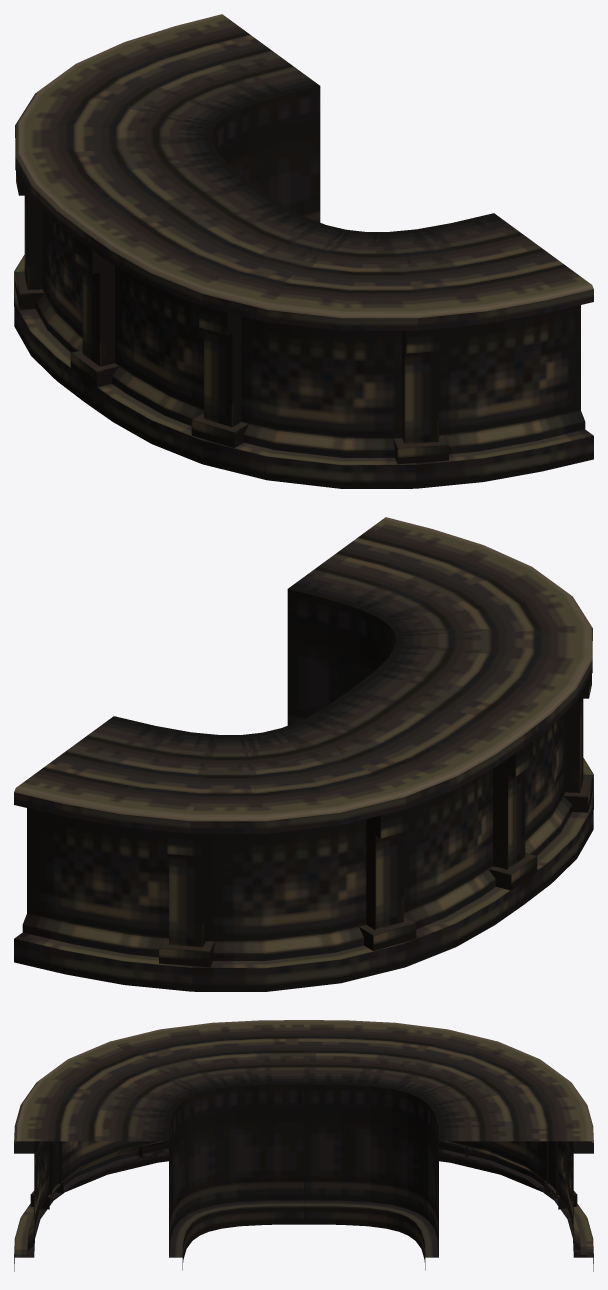
The model's file is EnvObjMD_BarCounter_A_Bottom_LS.FBX.
3 views of the same model, one above another, from view 1: azimuth 30°, elevation 25°; view 2: azimuth 150°, elevation 25°; view 3: azimuth 270°, elevation 25° (orthographic). The views are drawn at different scales.
Visible parts, largest first — view 1: EnvObjMD_BarCounter_A_Bottom_RS, EnvObjMD_BarCounter_A_Bottom_LS; view 2: EnvObjMD_BarCounter_A_Bottom_LS, EnvObjMD_BarCounter_A_Bottom_RS; view 3: EnvObjMD_BarCounter_A_Bottom_RS, EnvObjMD_BarCounter_A_Bottom_LS.
Boxes of the visible parts, x1,y1,x2,y2 form: EnvObjMD_BarCounter_A_Bottom_RS: [83, 186, 593, 488]; EnvObjMD_BarCounter_A_Bottom_LS: [14, 14, 320, 401]; EnvObjMD_BarCounter_A_Bottom_LS: [14, 689, 537, 991]; EnvObjMD_BarCounter_A_Bottom_RS: [287, 517, 593, 904]; EnvObjMD_BarCounter_A_Bottom_RS: [14, 1020, 304, 1271]; EnvObjMD_BarCounter_A_Bottom_LS: [304, 1020, 593, 1271].
Size of the model in its own units: 215 by 110 by 430.
1 material, 1 textured.
